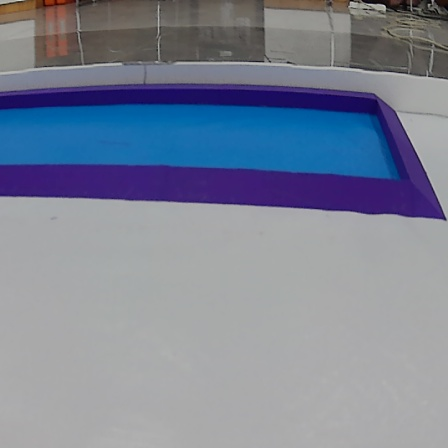blue_aim: (2, 84, 448, 223)
